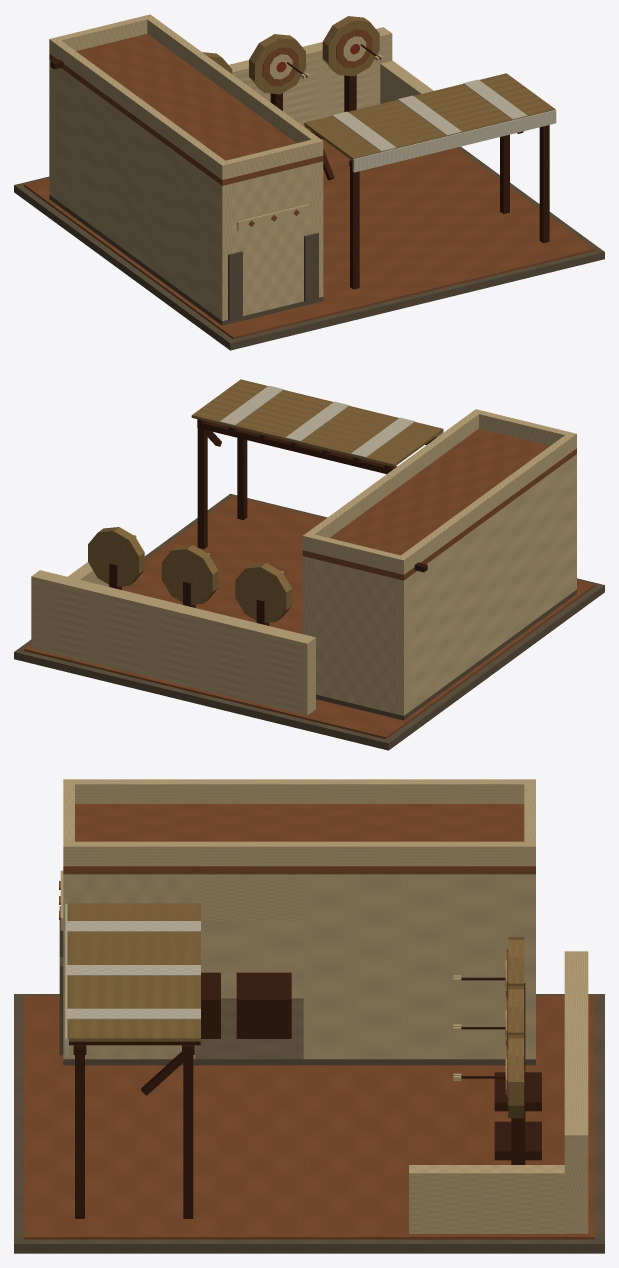
Rendered from Berber_Range_Age3.fbx.
The picture shows the model from 3 angles, top to bottom: view 1: azimuth 30°, elevation 25°; view 2: azimuth 150°, elevation 25°; view 3: azimuth 270°, elevation 25°; orthographic projection. The views are drawn at different scales.
Visible parts, largest first — view 1: court_floor, store_west_wall, store_roof, store_south_wall, woven_shooting_roof, foundation, target_earth_backstop, store_roof_parapet, store_roof_parapet.001, owner_front_valance, store_end_parapet, target_2_straw (+17 smaller); view 2: store_west_wall, target_earth_backstop, court_floor, store_roof, store_north_wall, woven_shooting_roof, foundation, store_roof_parapet, store_roof_parapet.001, target_0_straw, target_2_straw, target_1_straw (+10 smaller); view 3: court_floor, store_east_rear, store_roof, woven_shooting_roof, foundation, store_roof_parapet.001, store_roof_parapet, east_rear_boundary, target_earth_backstop, store_floor, store_west_wall, store_east_front (+17 smaller).
Boxes of the visible parts, <box> form: court_floor: <box>24,126,594,338</box>; store_west_wall: <box>49,59,232,321</box>; store_roof: <box>49,34,323,185</box>; store_south_wall: <box>232,164,313,315</box>; woven_shooting_roof: <box>304,73,555,160</box>; foundation: <box>14,146,604,350</box>; target_earth_backstop: <box>229,27,392,126</box>; store_roof_parapet: <box>49,37,229,179</box>; store_roof_parapet.001: <box>143,14,323,156</box>; owner_front_valance: <box>352,110,556,172</box>; store_end_parapet: <box>226,139,315,177</box>; target_2_straw: <box>322,16,379,76</box>; store_west_wall: <box>394,454,576,715</box>; target_earth_backstop: <box>31,570,315,715</box>; court_floor: <box>24,496,594,739</box>; store_roof: <box>302,428,576,580</box>; store_north_wall: <box>312,558,393,713</box>; woven_shooting_roof: <box>191,379,442,466</box>; foundation: <box>14,493,604,750</box>; store_roof_parapet: <box>396,432,576,574</box>; store_roof_parapet.001: <box>302,409,482,551</box>; target_0_straw: <box>235,563,292,622</box>; target_2_straw: <box>88,527,144,586</box>; target_1_straw: <box>161,545,218,604</box>; court_floor: <box>24,995,594,1239</box>; store_east_rear: <box>303,874,535,1059</box>; store_roof: <box>63,804,535,874</box>; woven_shooting_roof: <box>67,903,200,1041</box>; foundation: <box>14,994,604,1253</box>; store_roof_parapet.001: <box>63,841,535,866</box>; store_roof_parapet: <box>63,779,535,803</box>; east_rear_boundary: <box>409,1165,564,1233</box>; target_earth_backstop: <box>564,951,588,1233</box>; store_floor: <box>63,998,535,1065</box>; store_west_wall: <box>201,921,303,998</box>; store_east_front: <box>63,874,195,1059</box>.
Size of the model in its own units: 600 by 259 by 600.
7 materials, 7 textured.
